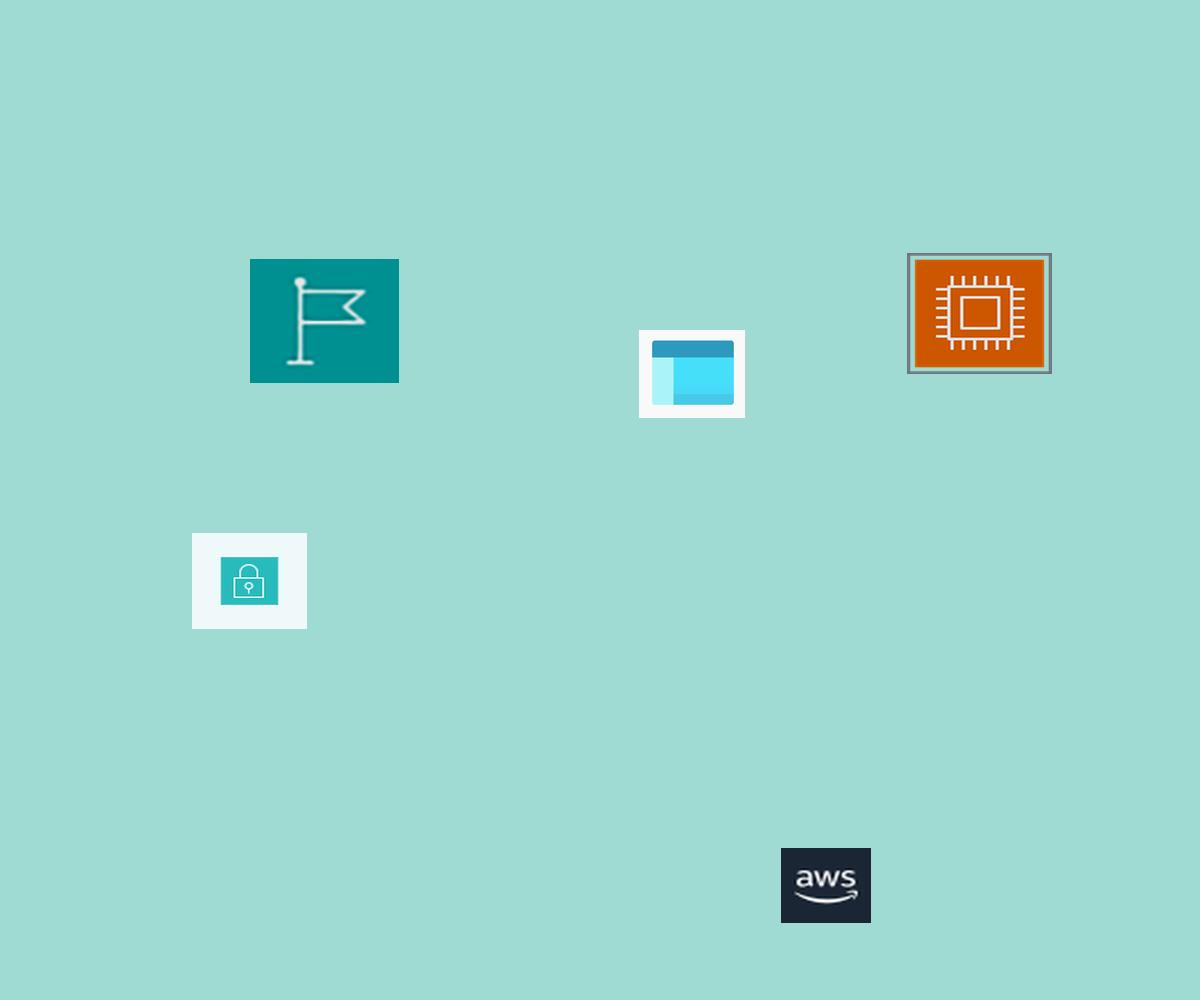AWS-Category_Compute: (907, 253, 1052, 374)
AWS-Cloud-logo: (781, 848, 871, 923)
AWS-Private-subnet: (192, 533, 307, 629)
AWS-Region: (250, 259, 399, 383)
Azure_management-portal: (639, 330, 745, 418)
